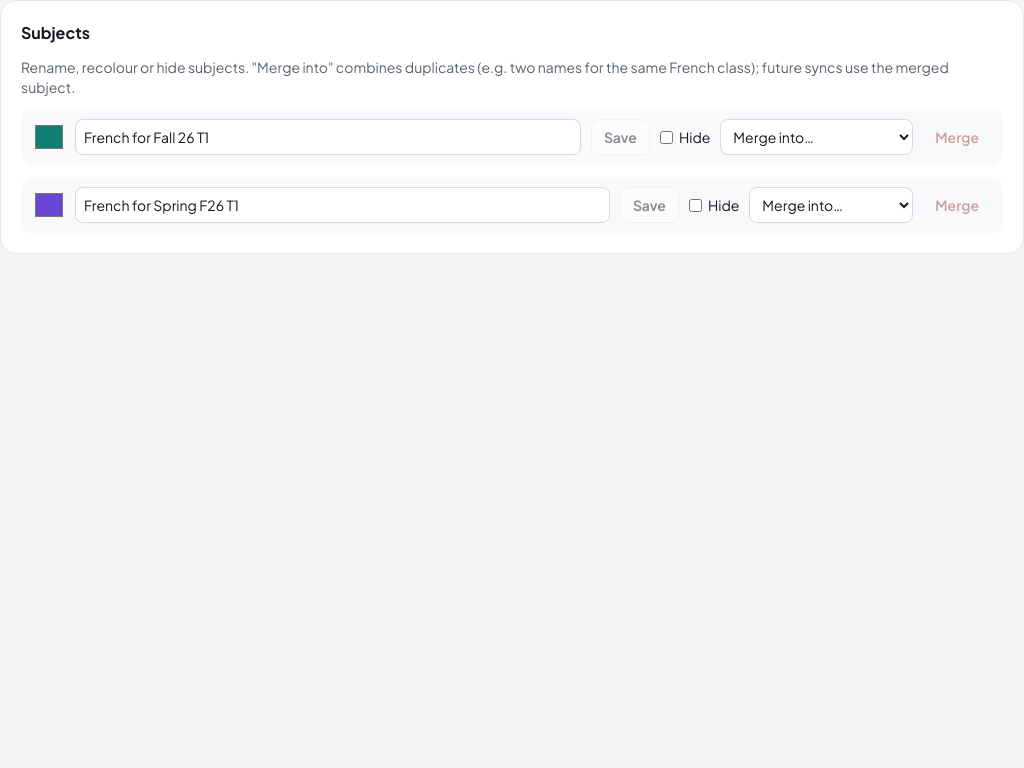
Test: SubjectSettings › merges only after the dialog is confirmed
Select "French for Fall 26 T1" in the dropdown named "Merge French for Spring F26 T1 into": (831, 205) top-left (749, 187), bottom-right (913, 223)
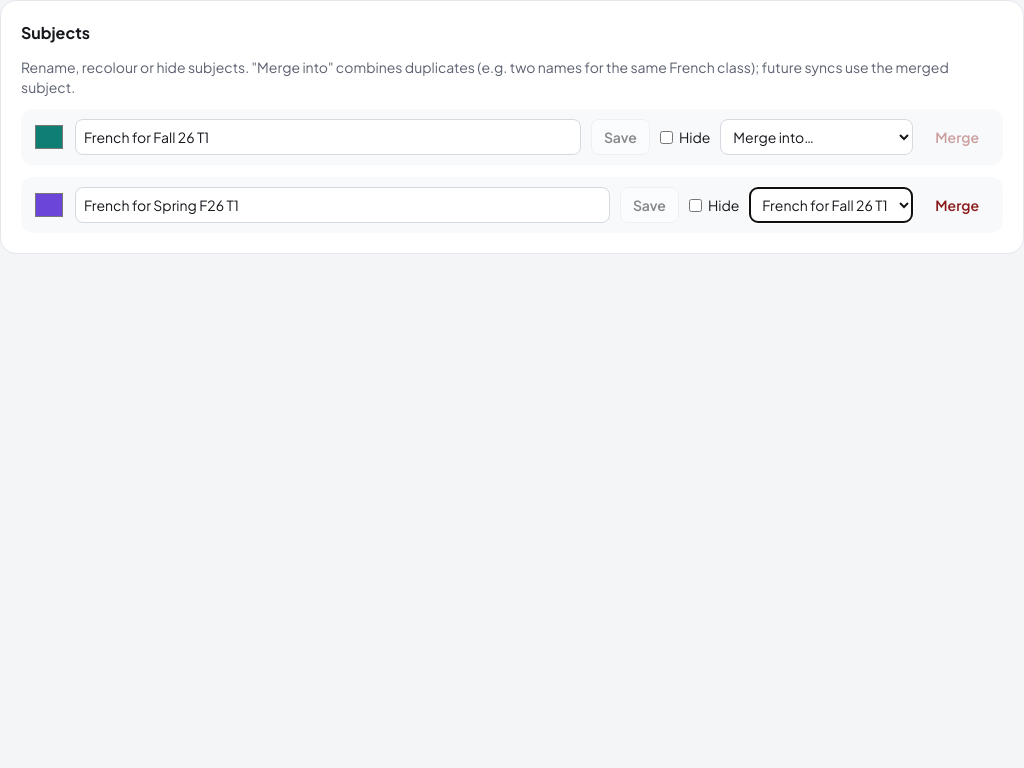
Click the button with aria-label "Merge French for Spring F26 T1": (957, 205) top-left (923, 187), bottom-right (991, 223)
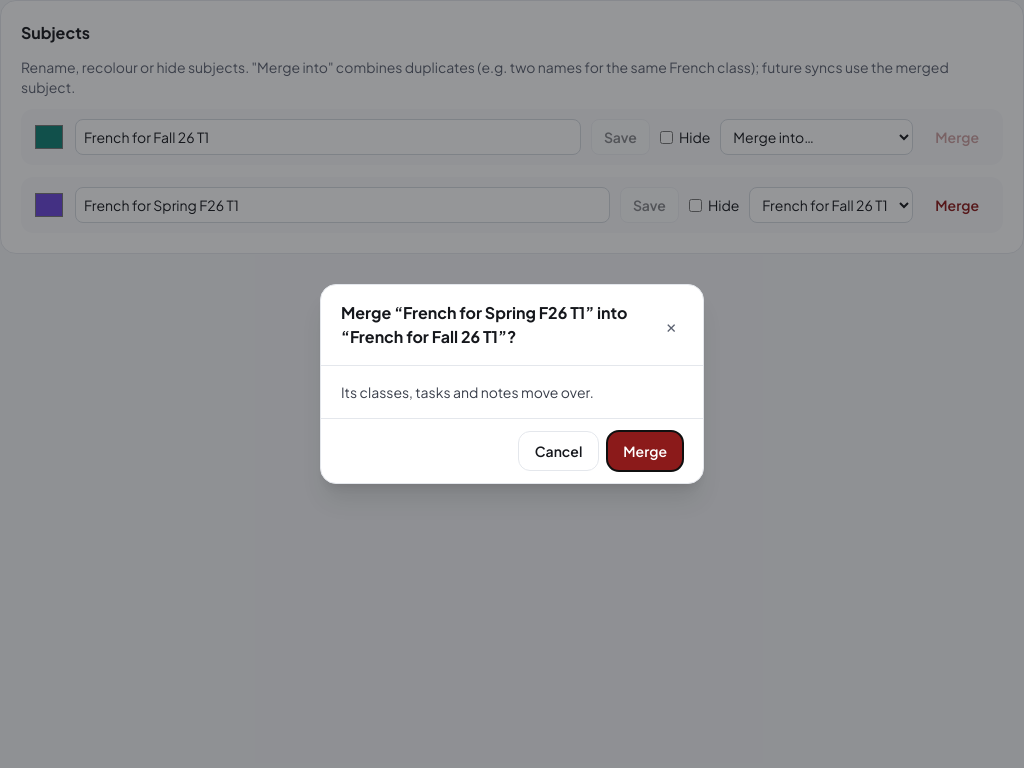
Now the dialog "Merge “French for Spring F26 T1” into “French for Fall 26 T1”?" shows "Its classes, tasks and notes move over.", box top-left (341, 383), bottom-right (594, 401)
Click the button "Cancel": (559, 451) top-left (518, 431), bottom-right (599, 471)
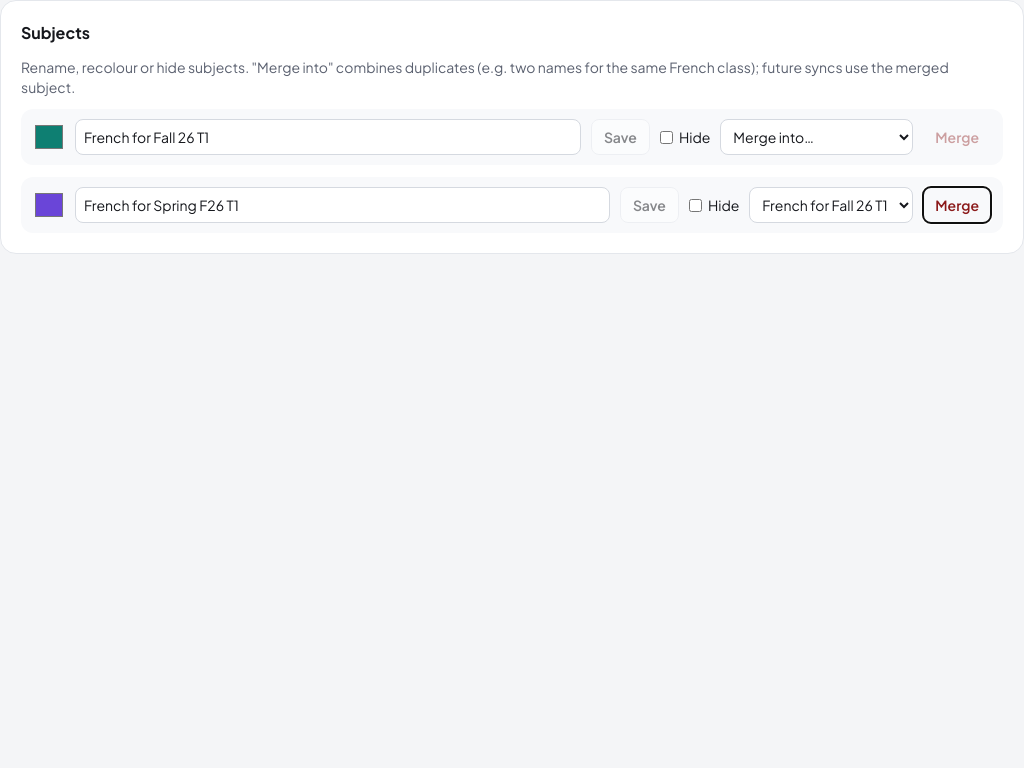
Click the button with aria-label "Merge French for Spring F26 T1": (957, 205) top-left (923, 187), bottom-right (991, 223)
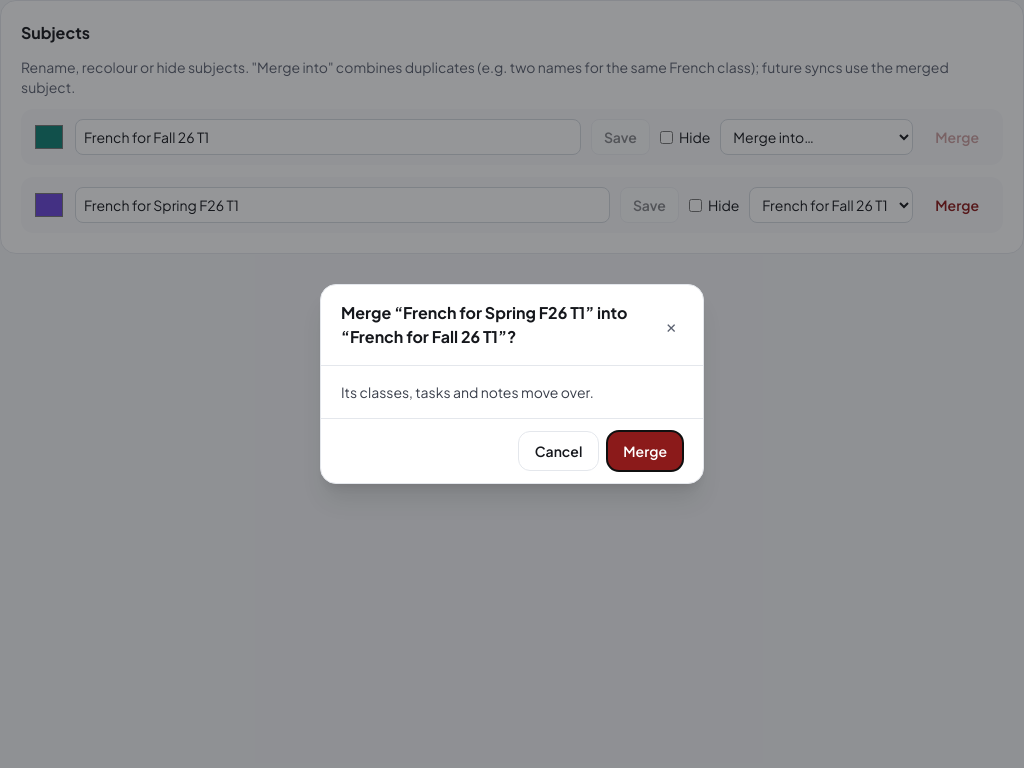
Click the button "Merge": (645, 451) top-left (607, 431), bottom-right (683, 471)
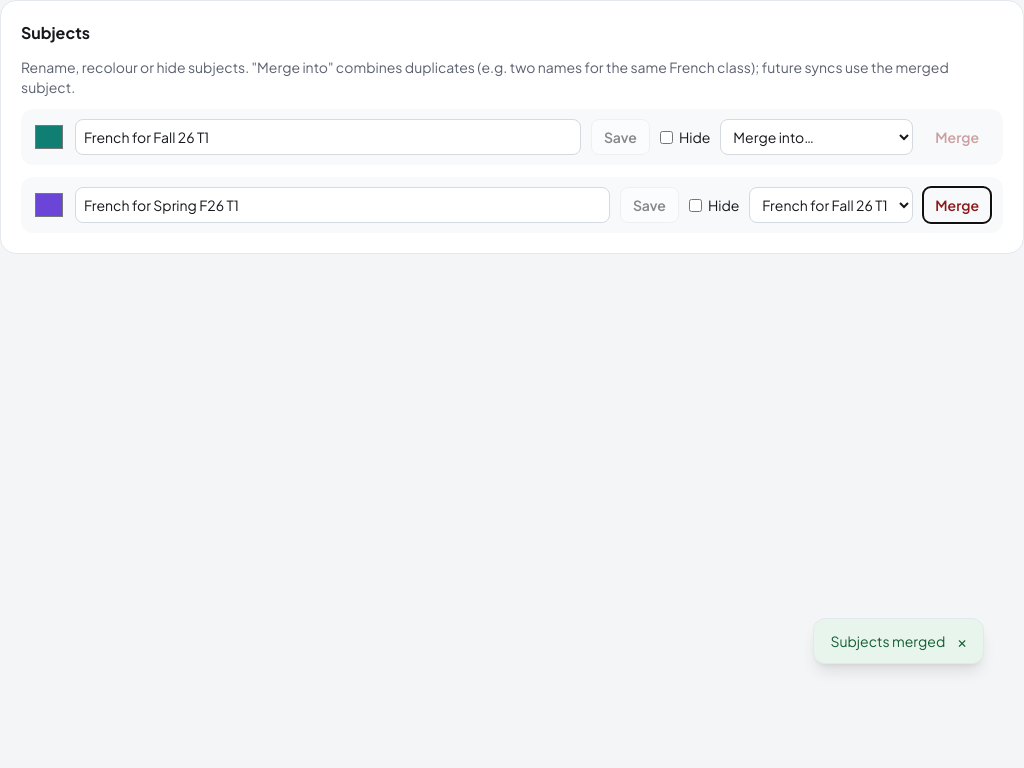
Now the text "Subjects merged" is shown, box top-left (830, 631), bottom-right (945, 651)
